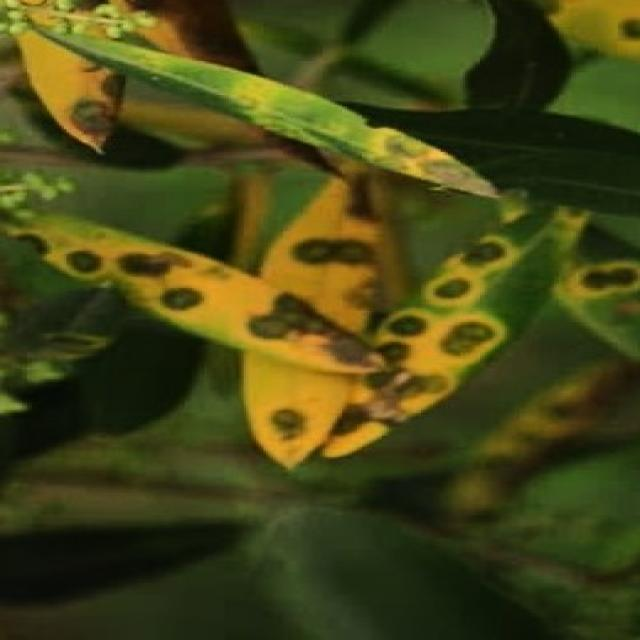OlivePeacockSpot: (47, 31, 497, 197), (320, 207, 586, 457), (12, 217, 376, 375)
